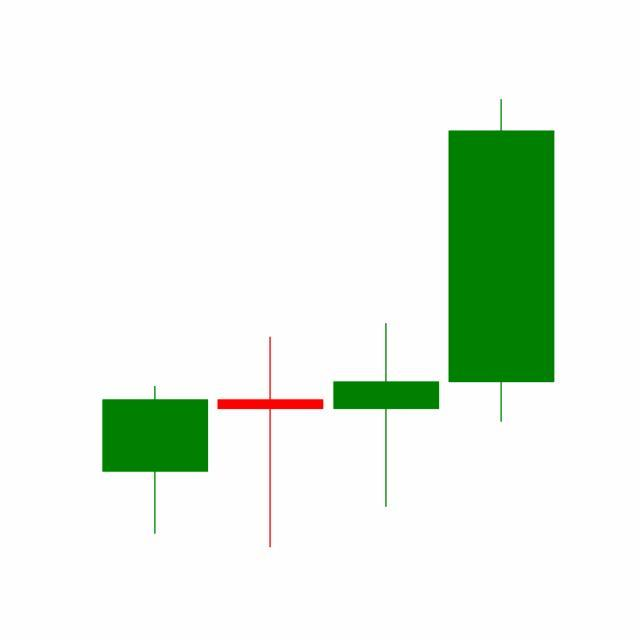Spinning Top: (329, 321, 445, 510)
